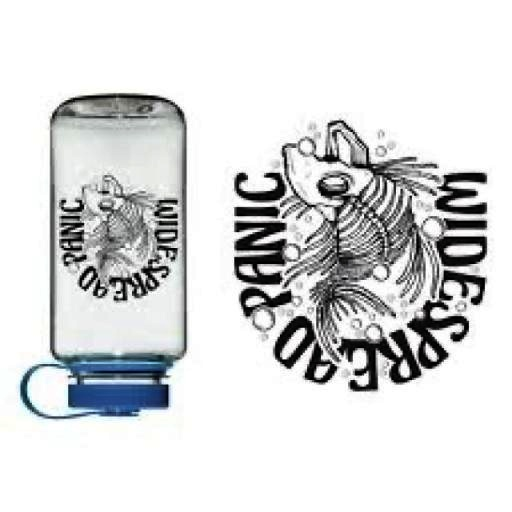bottle: (18, 88, 192, 422)
